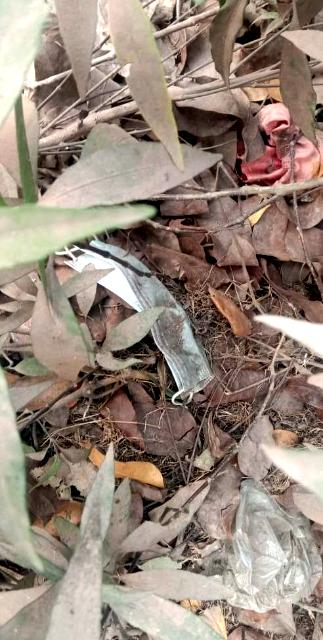mask: (55, 196, 238, 423)
